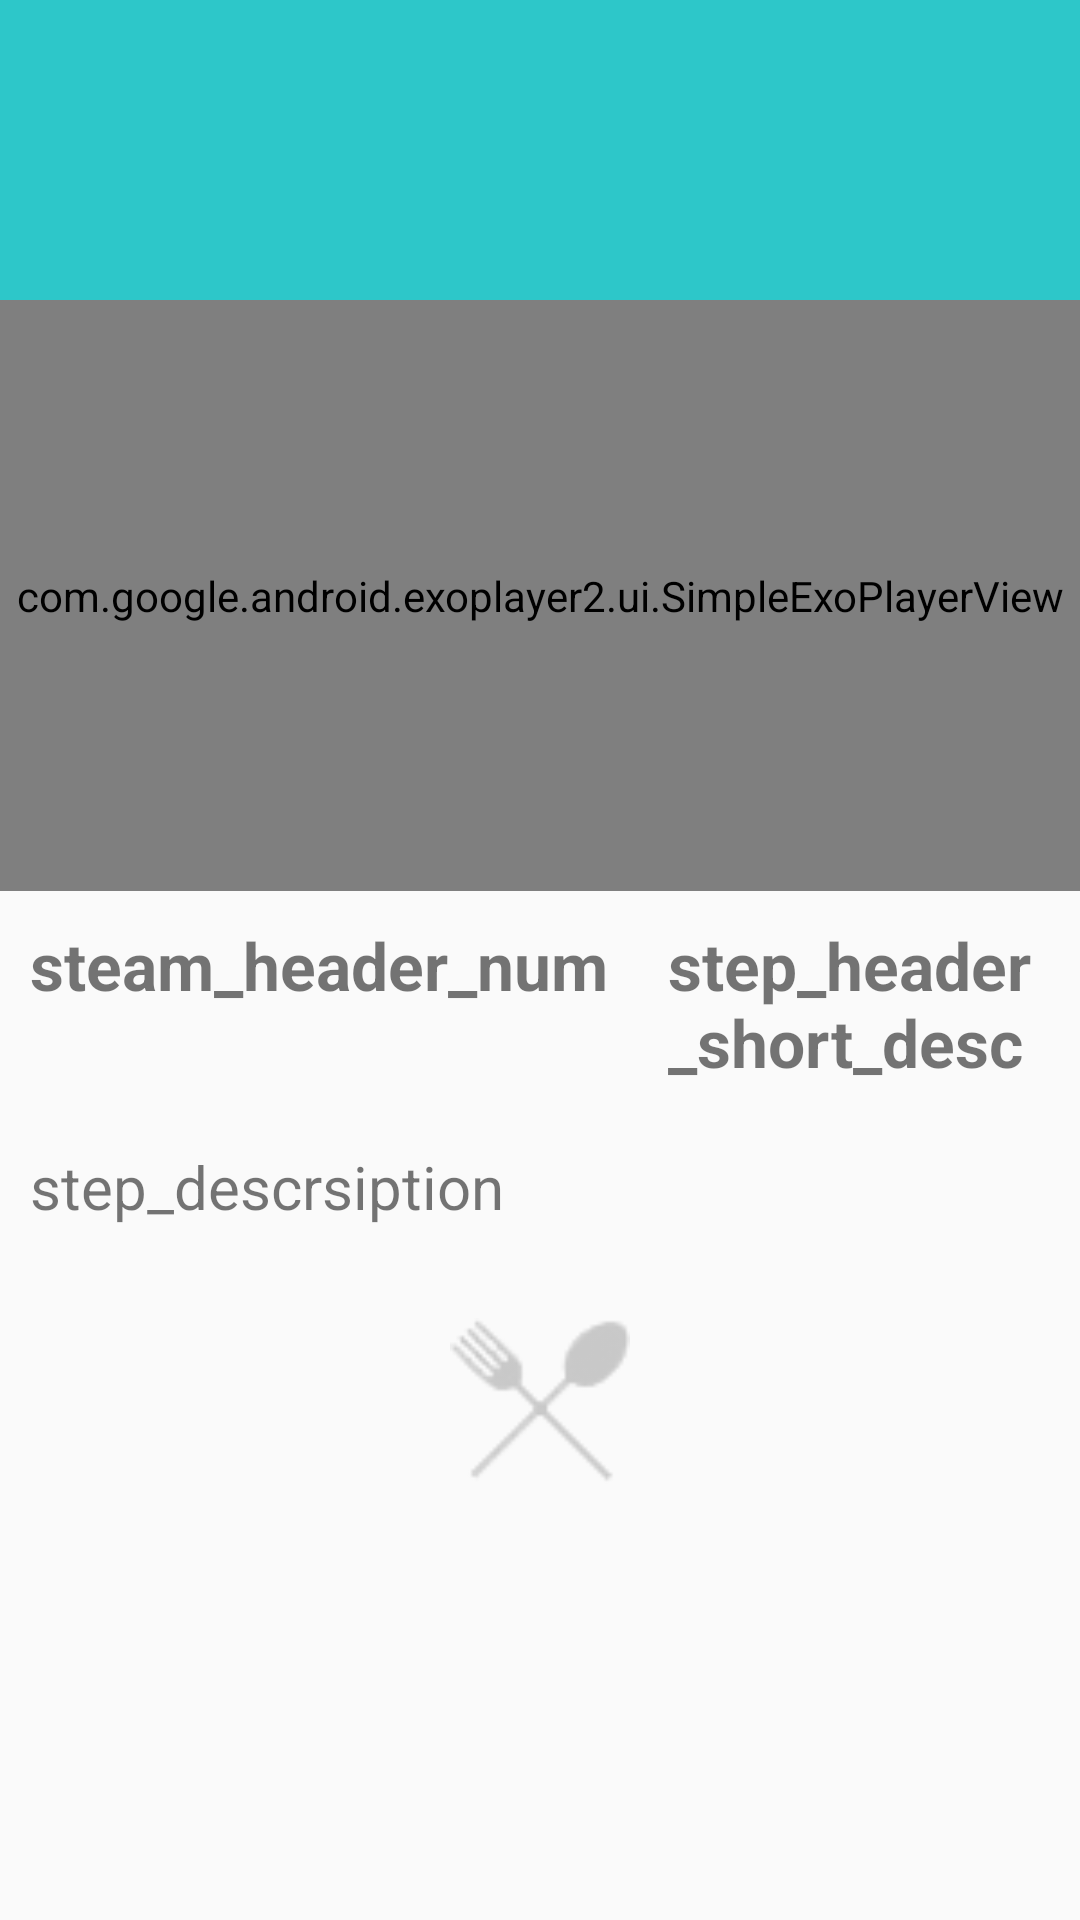

Locate icon controls on the screen. Image size 1080px x 1920px, boxes as [x1, y1, x2, y2].
food bullet: [453, 1322, 627, 1479]
